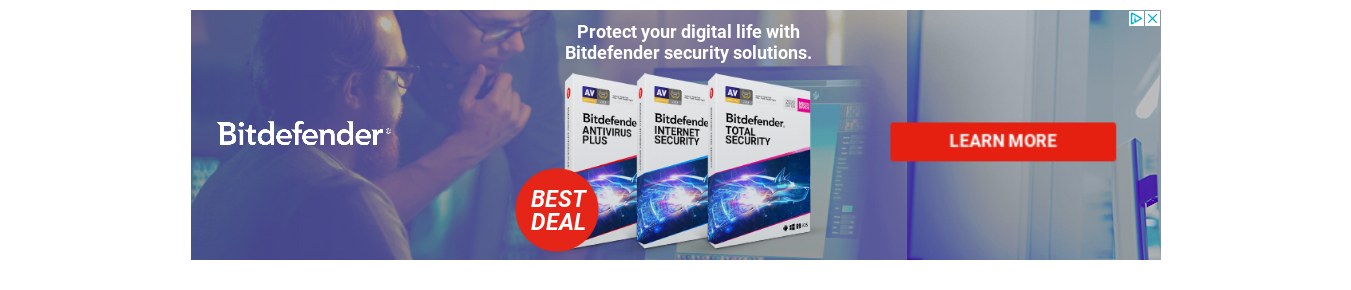fake_button: (885, 115, 1120, 176)
